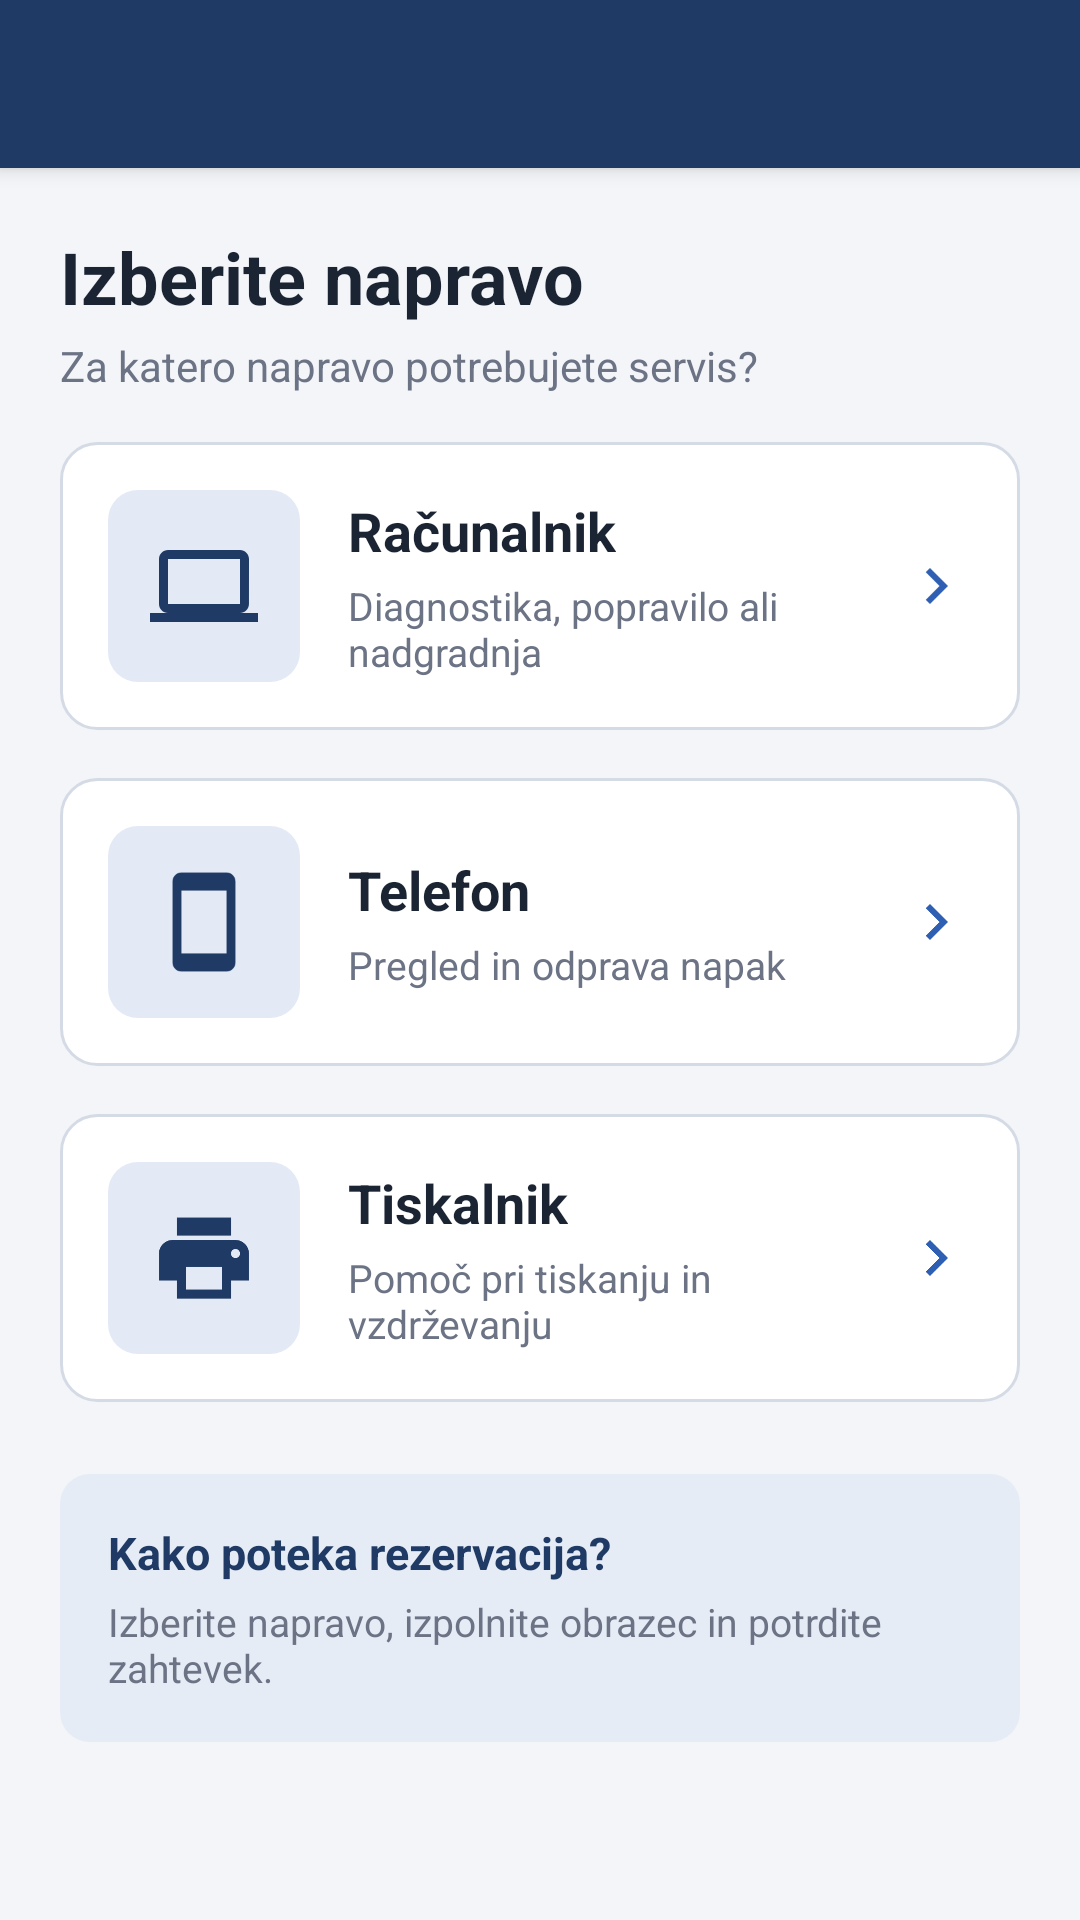

Point at icon controls on the screen. Image size 1080*1920, points as (x=x, y=y).
puscica: (x=937, y=586), (x=937, y=922), (x=937, y=1258)
